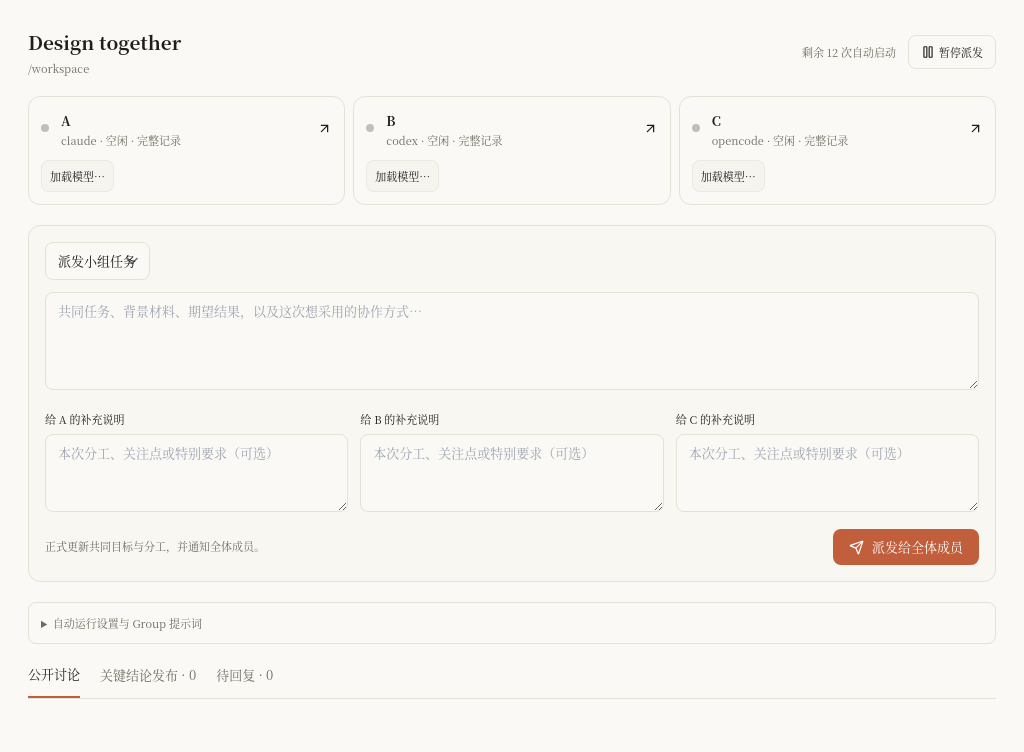
it: group primitives › retains the draft and idempotency key when an HTTP send fails
Later steps or results of the test are not shown.
Select "请求信息" in the dropdown named "操作" at (98,260), box [45,242,150,280]
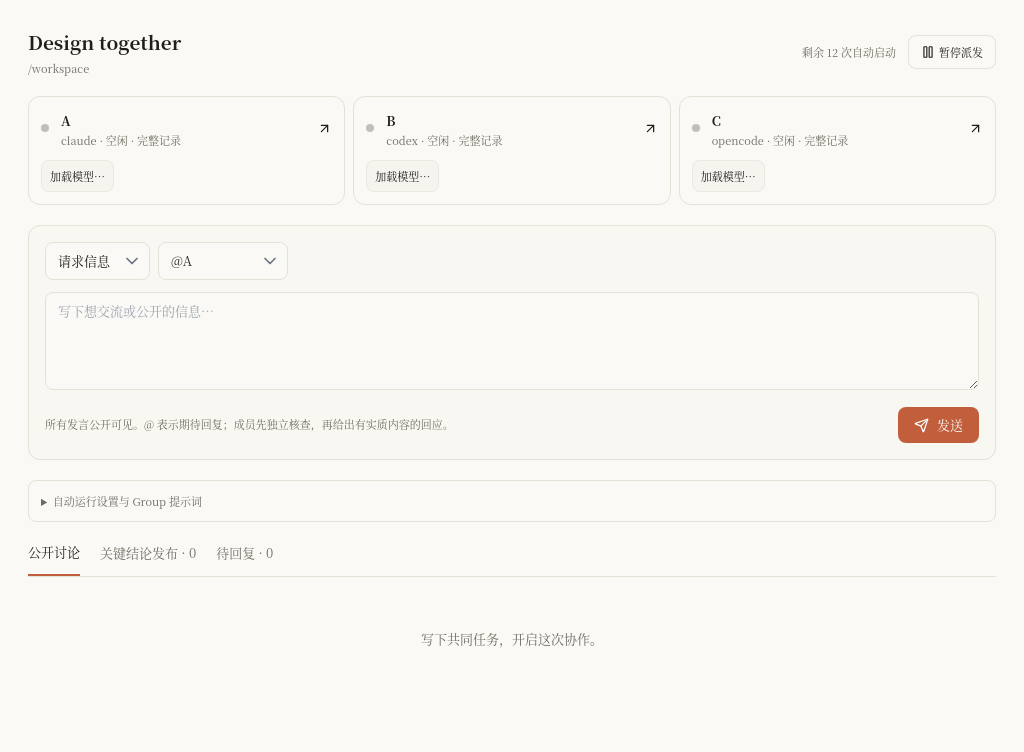
Select "@B" in the dropdown named "期待回复" at (223,260), box [158,242,288,280]
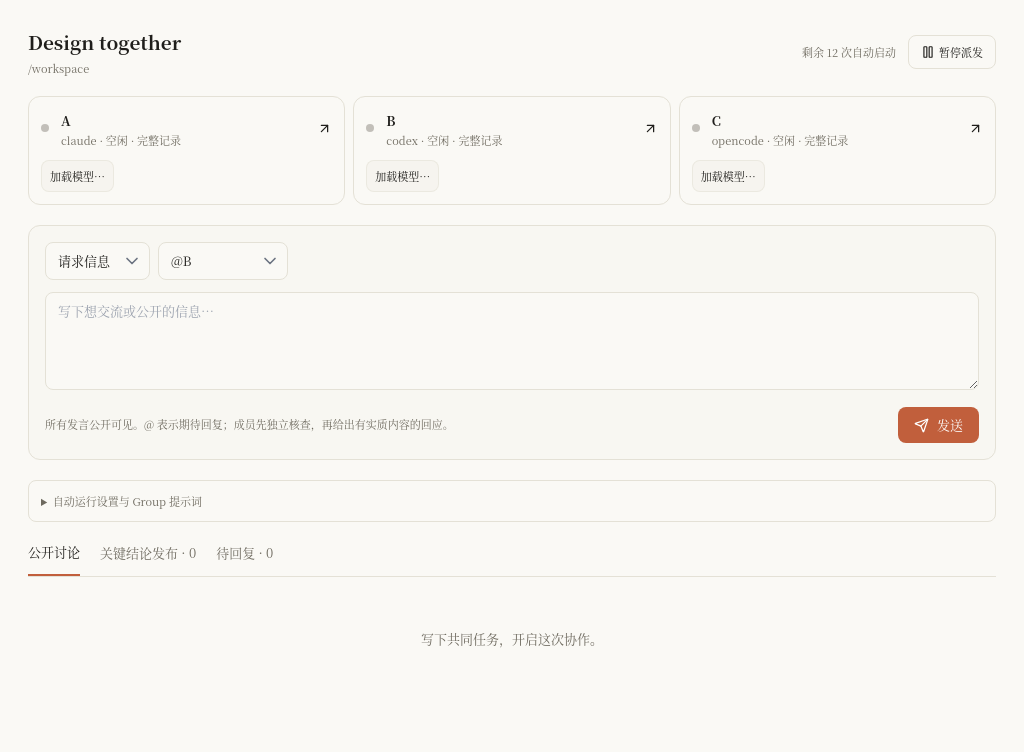
Type "Can you explain this result?" into the text box named "内容" at (512,340), box [45,292,979,390]
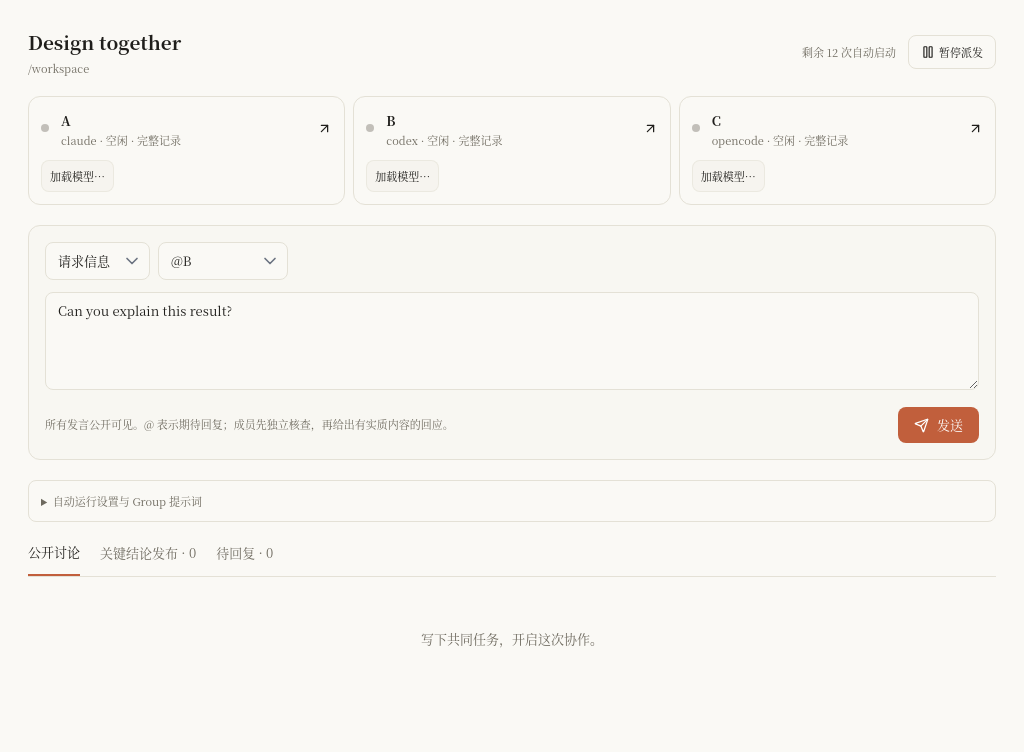
Click the button "发送" at (938,425), box [898,407,979,443]
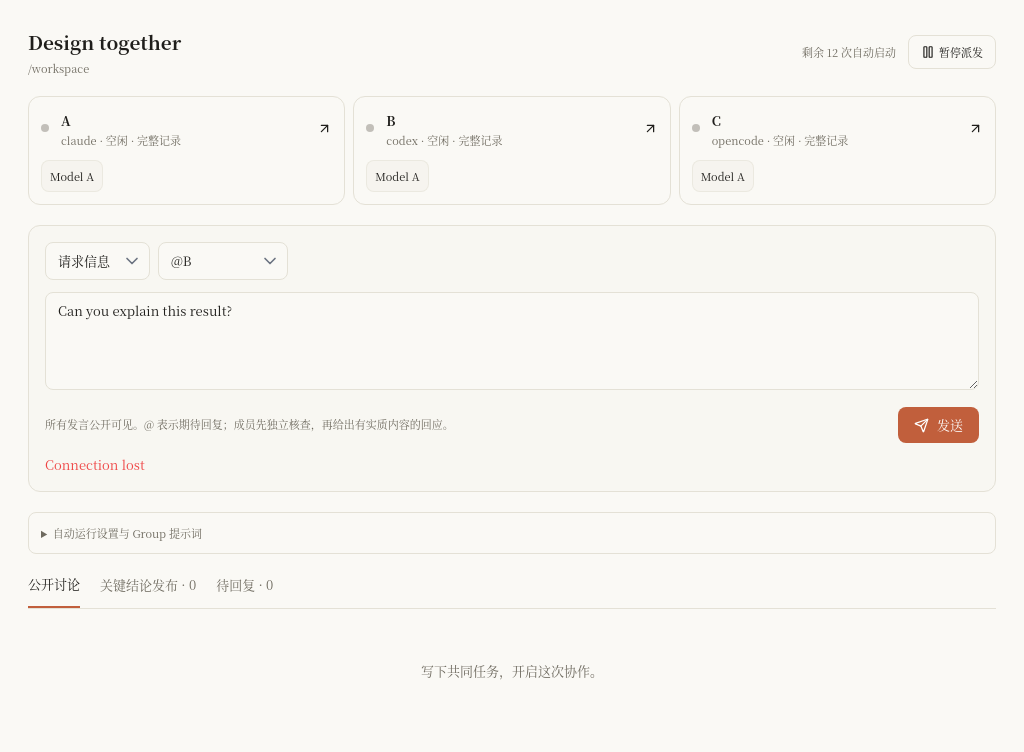
expect the text "Connection lost" is shown: met, box [45,455,145,474]
